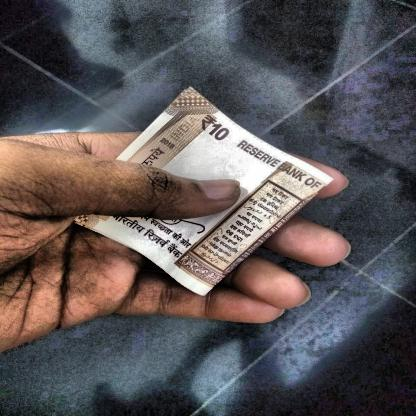Rs10: (189, 109, 238, 146)
